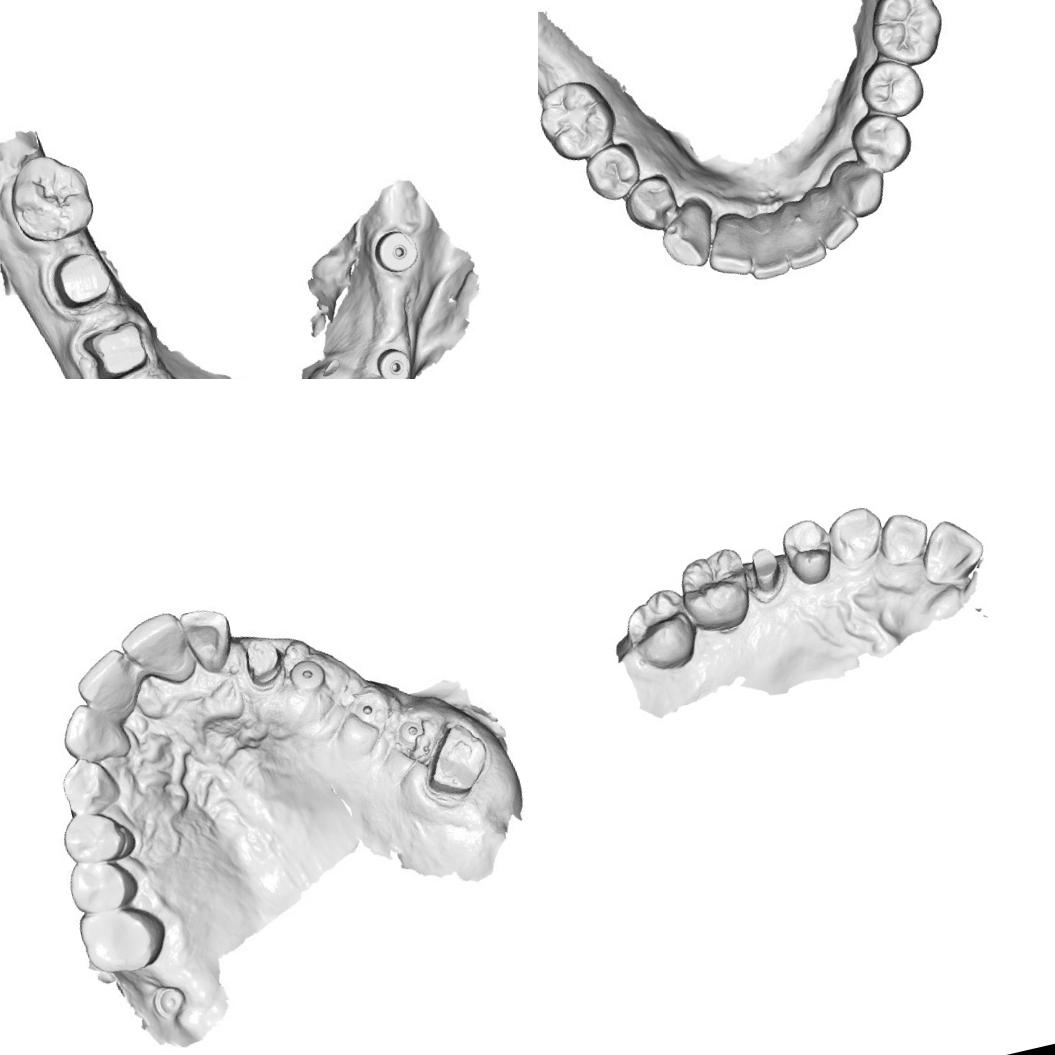canine: (652, 198, 724, 276), (55, 750, 129, 824), (822, 501, 891, 572), (830, 156, 890, 220)
crown: (411, 712, 501, 807), (45, 241, 116, 310), (80, 317, 156, 379), (741, 542, 791, 607), (237, 636, 289, 690)
implant: (340, 680, 395, 738), (372, 225, 424, 276), (285, 645, 330, 698), (373, 341, 421, 379), (394, 710, 432, 750)
incisor: (116, 606, 198, 698), (70, 646, 144, 730), (56, 696, 132, 776), (913, 512, 990, 588), (178, 603, 239, 672), (873, 506, 935, 571), (809, 184, 861, 250), (702, 205, 753, 271), (743, 224, 791, 284), (778, 206, 822, 266)
molar: (2, 144, 98, 243), (72, 894, 172, 984), (672, 543, 759, 640), (618, 584, 704, 678), (538, 76, 621, 168), (860, 0, 951, 71)
premolar: (63, 850, 143, 922), (858, 50, 932, 124), (778, 514, 841, 591), (59, 808, 126, 872), (851, 110, 915, 176), (582, 140, 644, 205), (627, 171, 678, 230)
